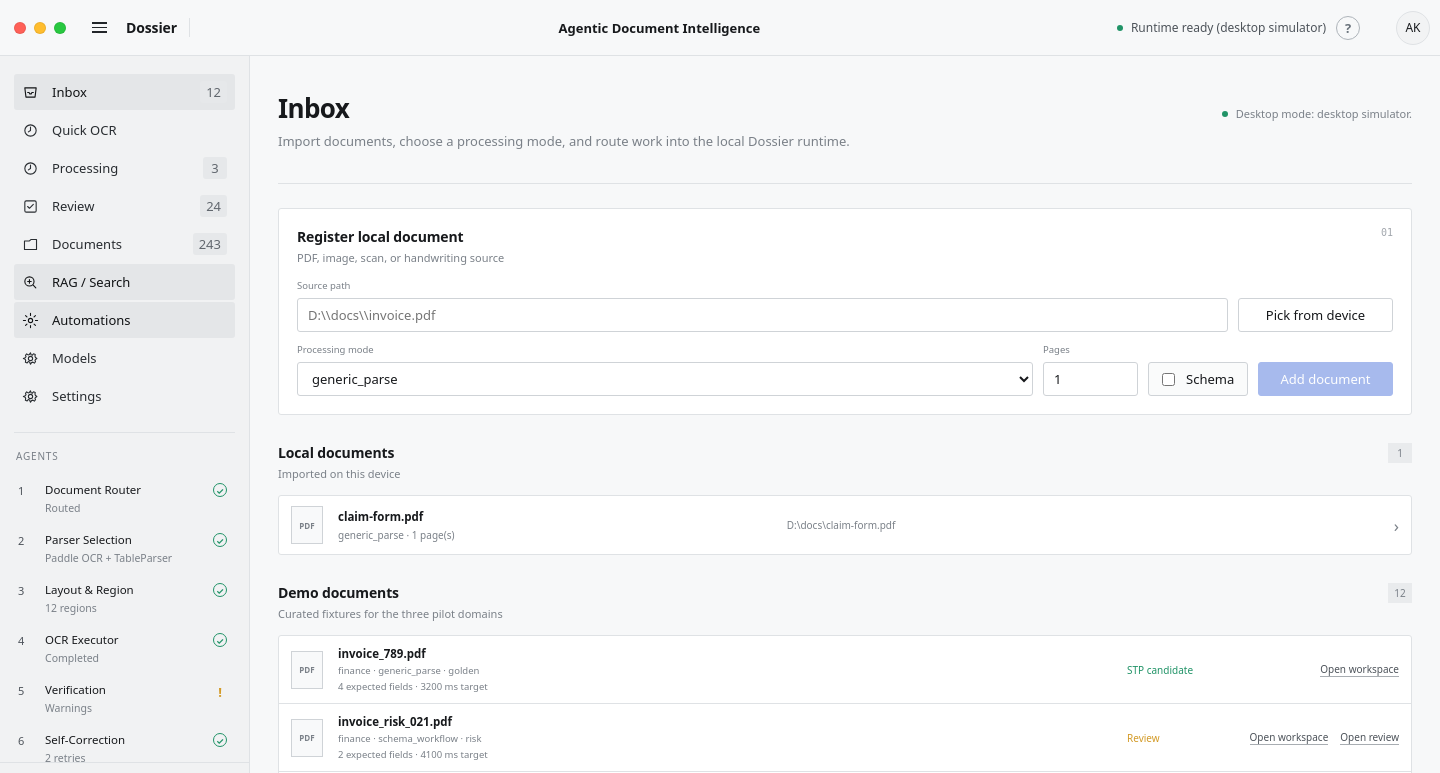
Test: pilot flows › picks a local document from the desktop picker entry point
The image size is (1440, 773).
Expected: the text "Runtime ready (desktop simulator)" is shown, [1117,19,1336,36]
Expected: the text "Desktop mode: desktop simulator." is shown, [1236,106,1412,121]
Click the button "Pick from device". click: (1316,315)
box: [1238,298,1393,332]
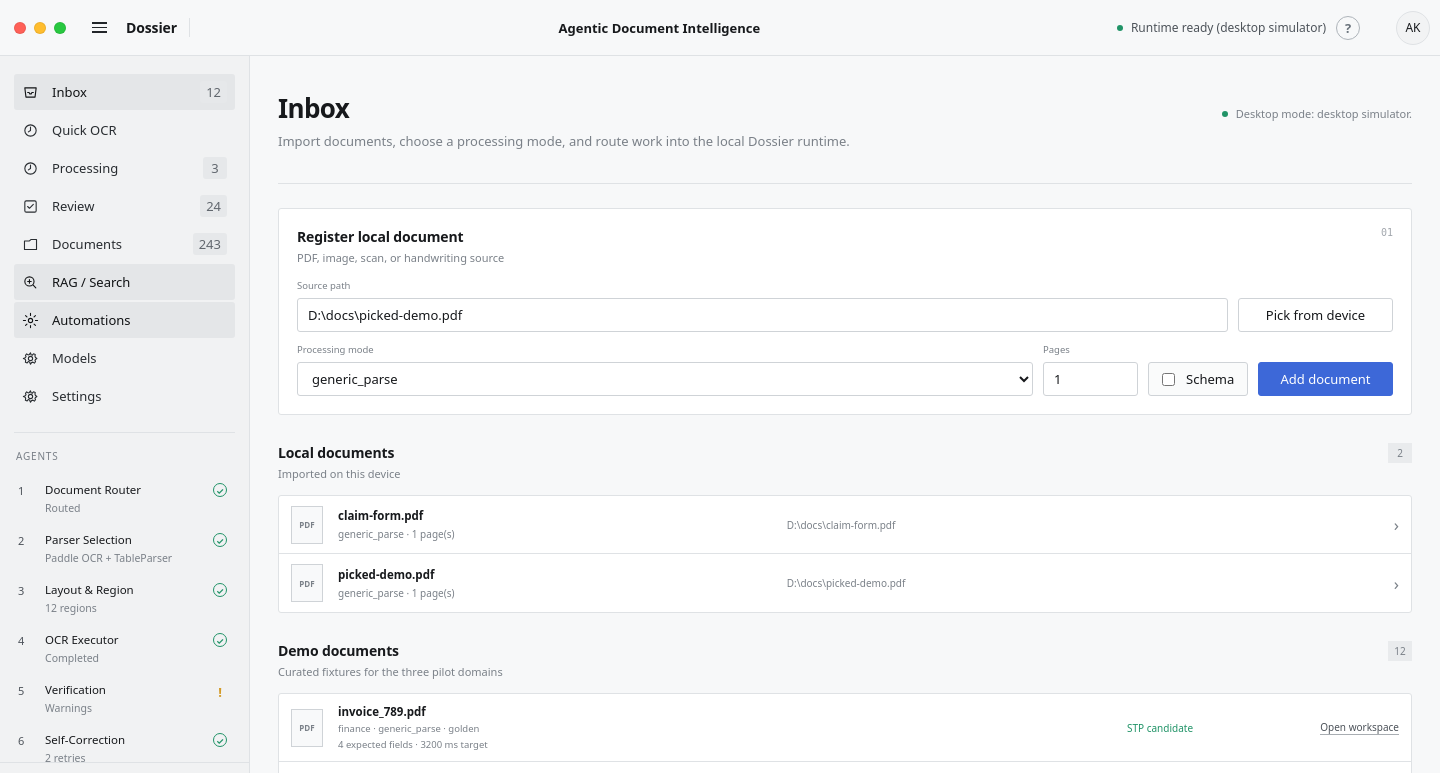
Now the text "picked-demo.pdf" is shown, box [338,566,434,582]
